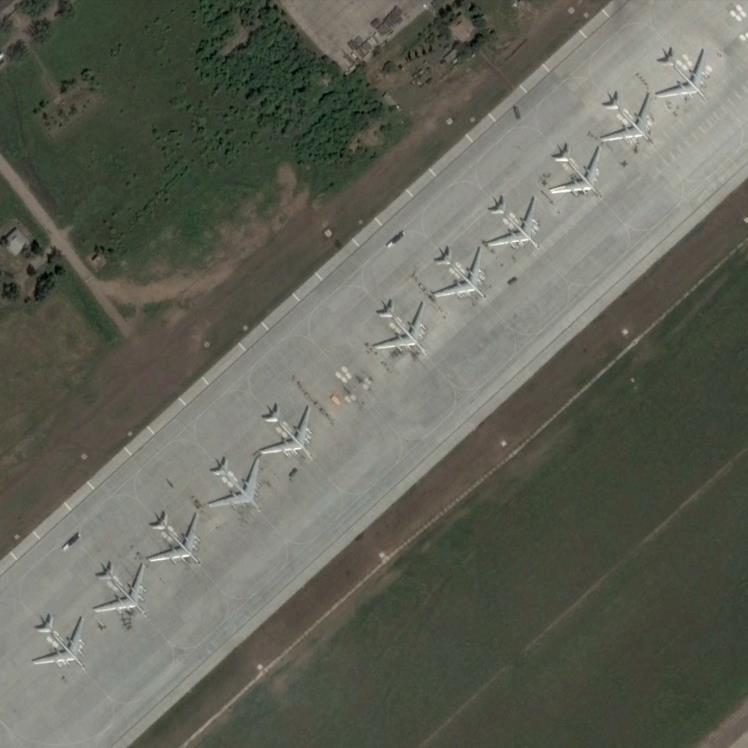A17: (257, 403, 317, 464), (31, 615, 89, 675), (206, 458, 264, 517), (91, 561, 149, 620), (483, 195, 541, 253), (372, 300, 429, 359), (596, 91, 653, 149), (430, 247, 487, 304), (146, 510, 203, 567), (653, 47, 709, 105), (548, 146, 602, 202)
